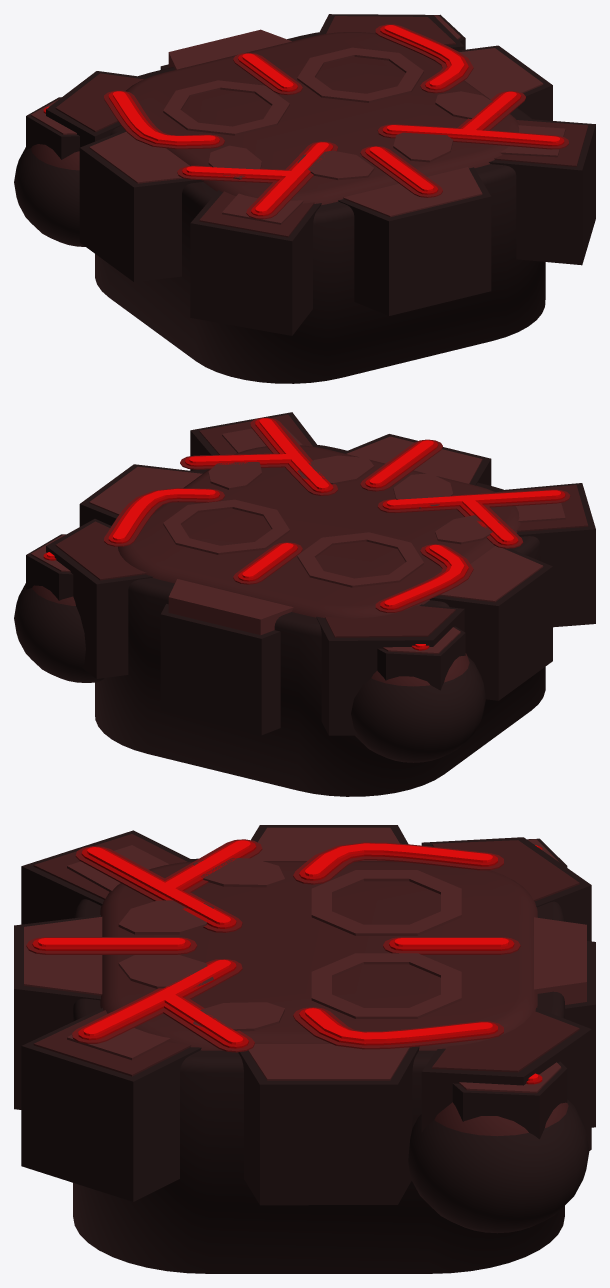
The model's file is body_rocha_magma.fbx.
3 renders of one model, top to bottom at view 1: azimuth 30°, elevation 25°; view 2: azimuth 150°, elevation 25°; view 3: azimuth 270°, elevation 25°, orthographic. The views are drawn at different scales.
Parts seen in each view (by area): view 1: body_rocha_magma_corpo, body_rocha_magma_corpo_neon, body_rocha_magma_mao_esq; view 2: body_rocha_magma_corpo, body_rocha_magma_mao_esq, body_rocha_magma_corpo_neon, body_rocha_magma_mao; view 3: body_rocha_magma_corpo, body_rocha_magma_mao, body_rocha_magma_corpo_neon.
Part boxes in pixels (x1,y1,x2,y2): body_rocha_magma_corpo: (46,14,595,383); body_rocha_magma_corpo_neon: (108,25,564,216); body_rocha_magma_mao_esq: (14,97,85,246); body_rocha_magma_corpo: (46,412,595,796); body_rocha_magma_mao_esq: (351,626,485,762); body_rocha_magma_corpo_neon: (108,418,565,609); body_rocha_magma_mao: (14,534,104,682); body_rocha_magma_corpo: (14,825,595,1273); body_rocha_magma_mao: (408,1061,589,1233); body_rocha_magma_corpo_neon: (32,840,514,1048).
Bounding box in the file's own units: 5.4 × 2.05 × 4.73.
Materials: 1 (1 with a texture image).
